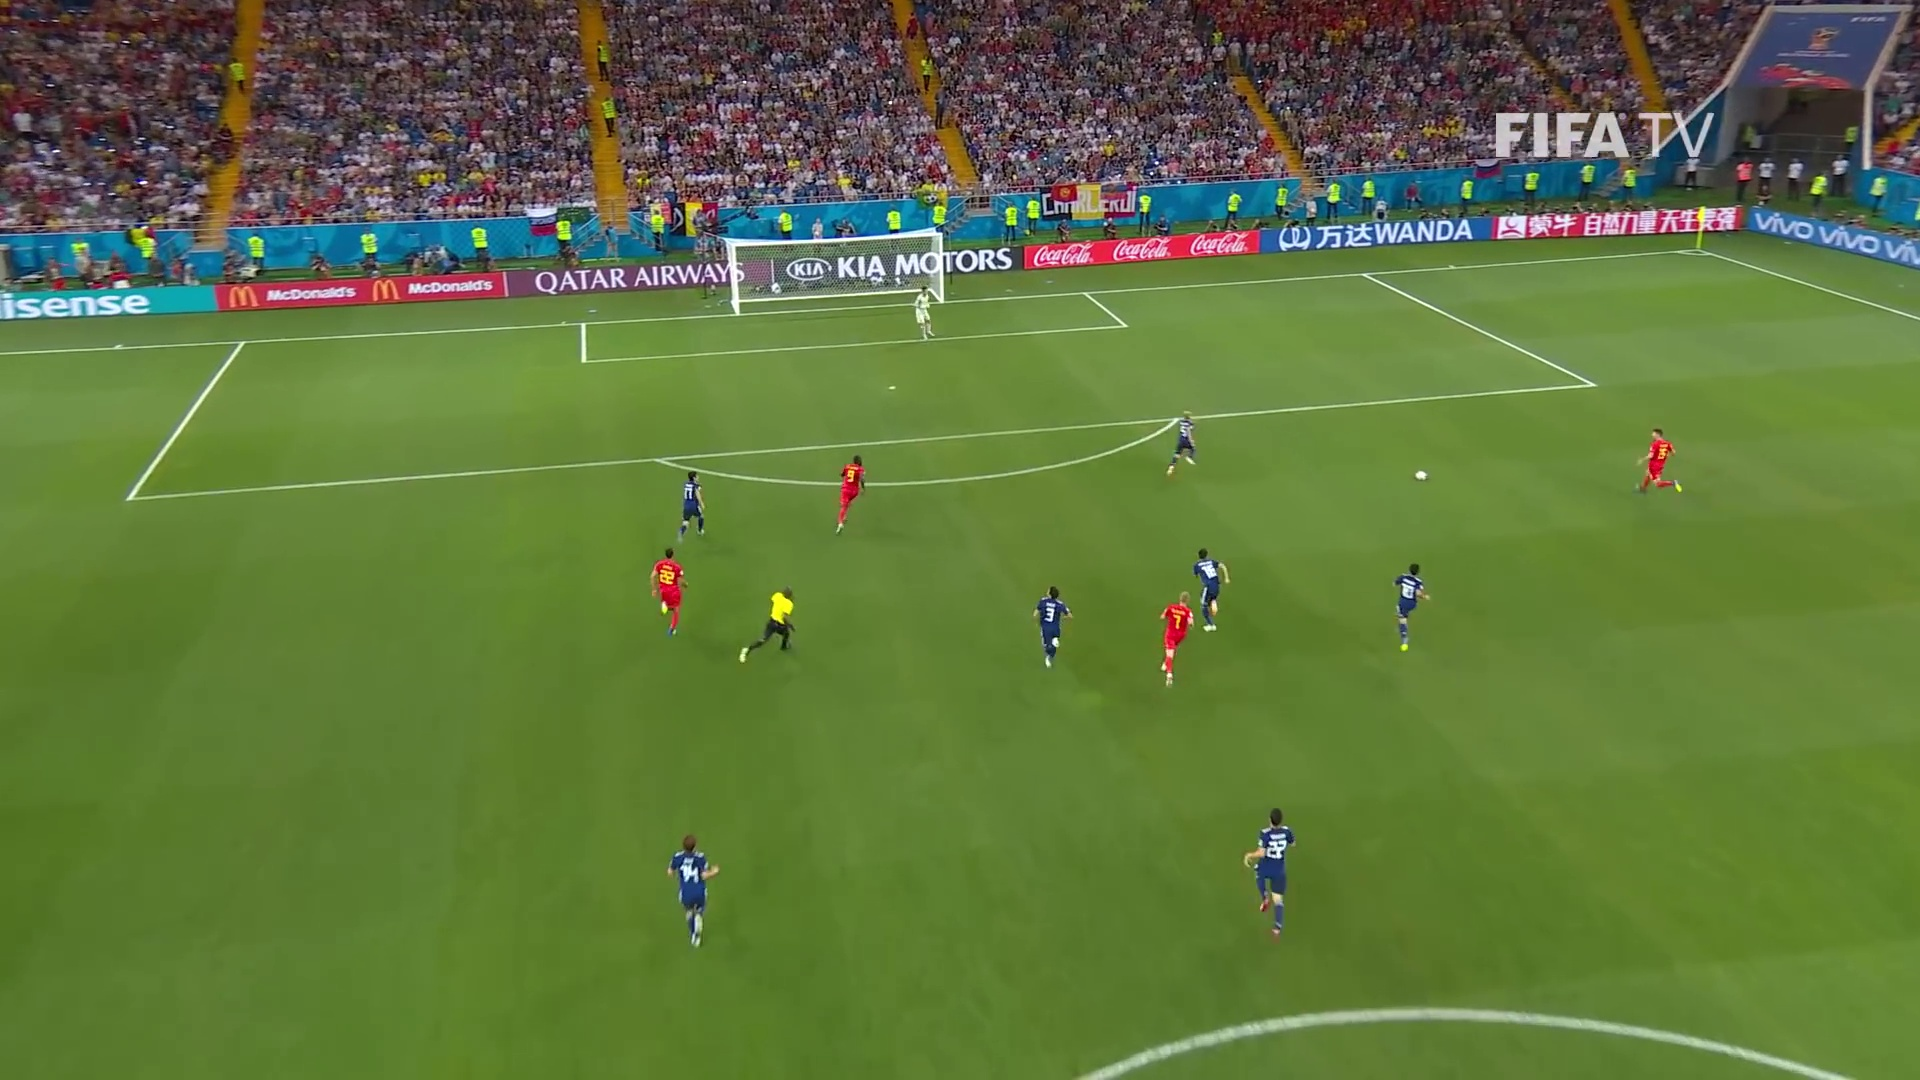ball: (1416, 471, 1426, 481)
person: (670, 835, 715, 947), (1253, 808, 1289, 934), (1033, 587, 1069, 672), (1637, 428, 1679, 496), (1193, 547, 1224, 633), (832, 454, 864, 534), (1396, 559, 1423, 651), (655, 552, 684, 634), (1165, 592, 1191, 681), (1164, 411, 1195, 484), (679, 470, 708, 537), (914, 289, 932, 342)
